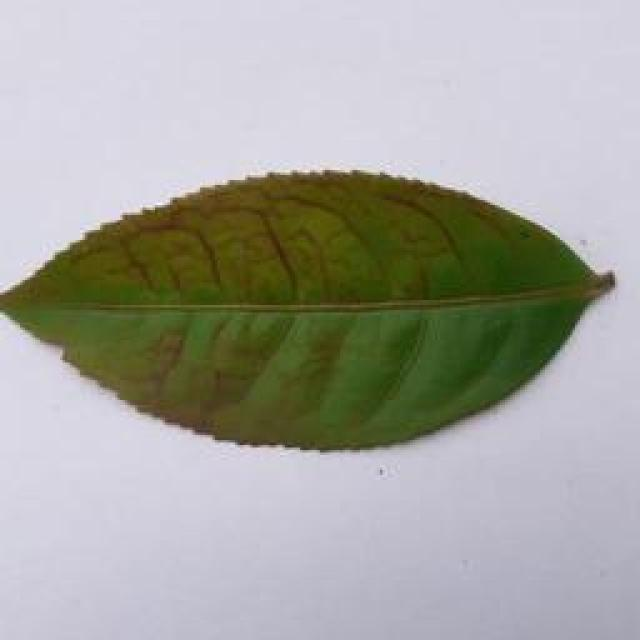Red Leaf Spot: (1, 164, 615, 432)
